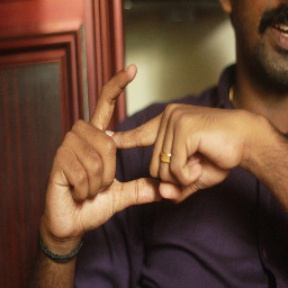E: (77, 61, 182, 211)
